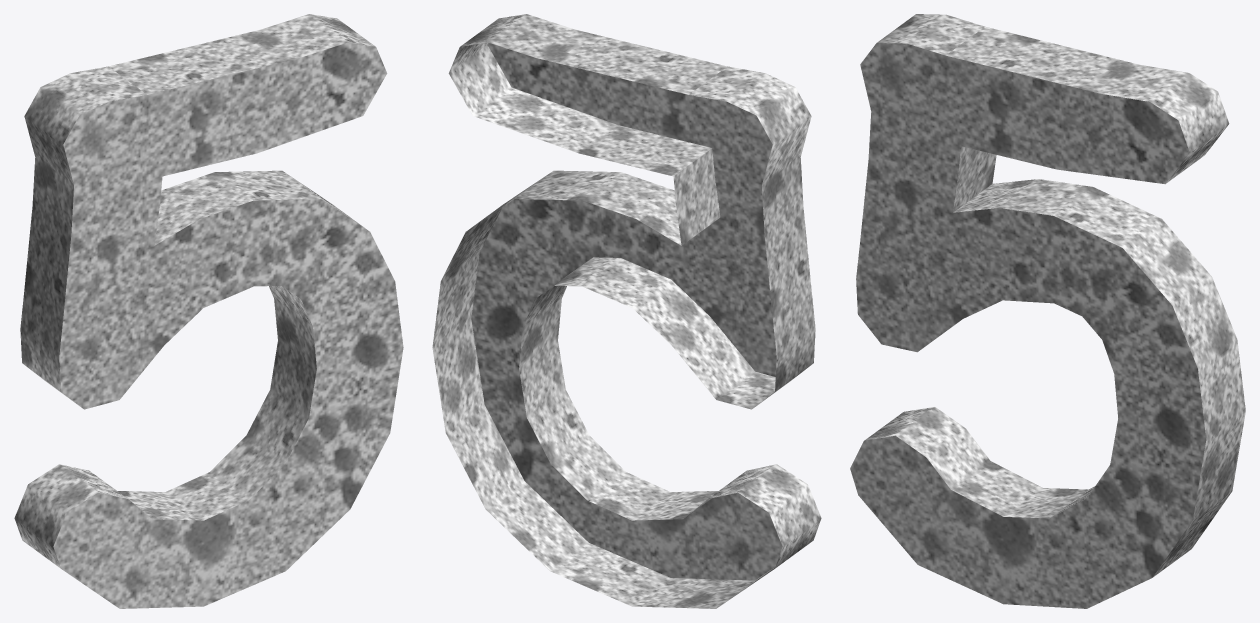
The model's file is Cinco.FBX.
3 renders of one model, left to right at view 1: azimuth 30°, elevation 25°; view 2: azimuth 150°, elevation 25°; view 3: azimuth 330°, elevation 25°, orthographic.
Parts seen in each view (by area): view 1: Cinco; view 2: Cinco; view 3: Cinco.
Part boxes in pixels (box(x1,y1,x2,y2)): Cinco: box(14, 14, 403, 608); Cinco: box(432, 14, 821, 608); Cinco: box(850, 14, 1245, 608).
Bounding box in the file's own units: 1.3 × 1.88 × 0.25.
